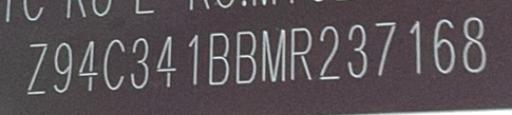letter: (461, 14, 491, 75), (429, 17, 457, 74), (401, 18, 427, 77), (372, 19, 398, 78), (99, 39, 127, 92), (287, 25, 313, 82), (260, 27, 286, 82), (316, 25, 340, 84), (343, 24, 367, 79), (206, 31, 230, 86), (232, 31, 256, 84), (152, 34, 176, 87), (26, 42, 48, 99), (74, 42, 98, 93), (181, 32, 203, 85), (128, 38, 150, 91), (51, 42, 71, 95)
